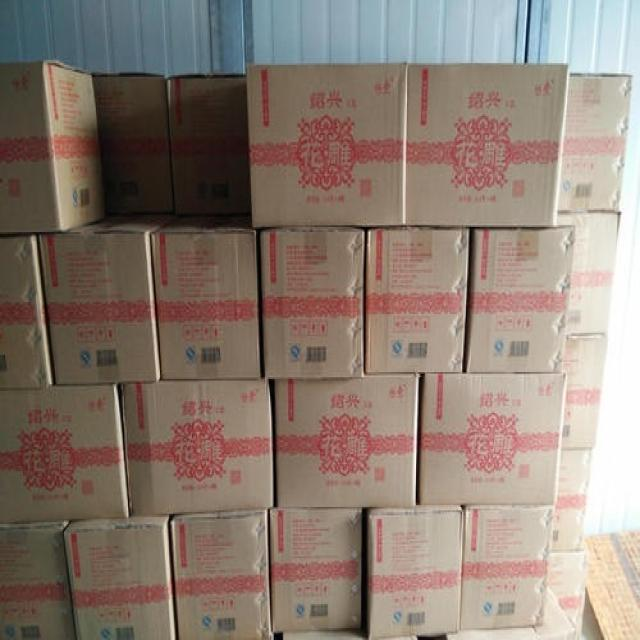box: (246, 61, 408, 229), (406, 65, 570, 227), (37, 215, 173, 386), (120, 379, 274, 515), (416, 372, 567, 505), (274, 375, 420, 509), (150, 217, 262, 381), (0, 60, 104, 232), (0, 386, 129, 524), (463, 227, 575, 372), (259, 227, 365, 379), (364, 227, 470, 374), (64, 515, 178, 640), (448, 539, 588, 640), (169, 510, 271, 640), (365, 507, 463, 640), (168, 73, 252, 217), (92, 72, 174, 217), (269, 507, 362, 633), (461, 505, 550, 630), (557, 73, 632, 213), (0, 521, 77, 640), (0, 232, 55, 389), (557, 212, 620, 335), (562, 335, 607, 449), (549, 449, 591, 551)
